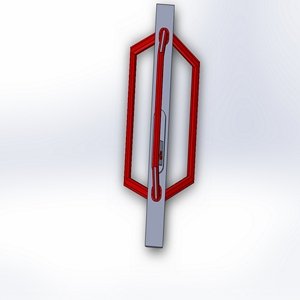submarine: (111, 1, 218, 262)
